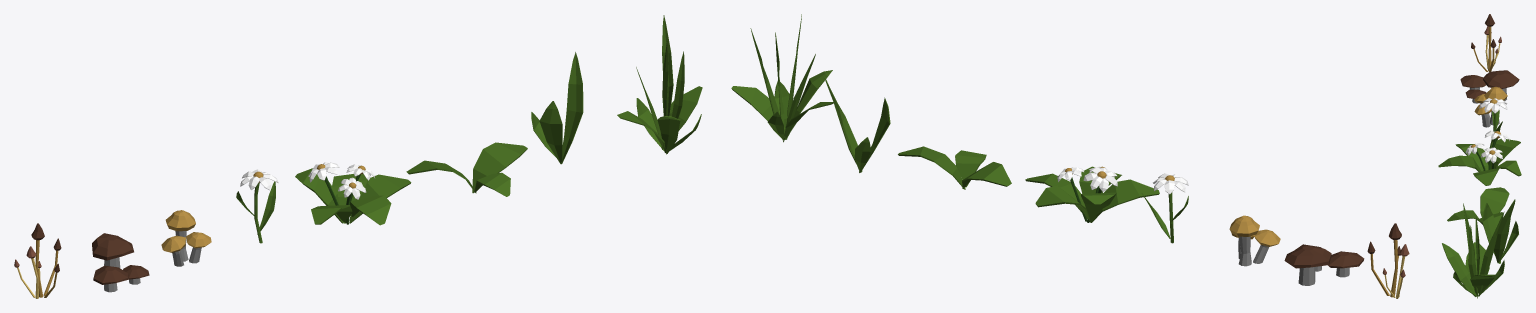
Rendered from Grass1.fbx.
The picture shows the model from 3 angles, left to right: view 1: azimuth 30°, elevation 25°; view 2: azimuth 150°, elevation 25°; view 3: azimuth 270°, elevation 25°; orthographic projection. The views are drawn at different scales.
Parts seen in each view (by area): view 1: Flower 1, Grass 3, Grass 2, Grass 1, Mushroom 2, Mushroom 3, Flower 2, Mushroom 1; view 2: Flower 1, Grass 3, Grass 1, Mushroom 2, Mushroom 3, Grass 2, Mushroom 1, Flower 2; view 3: Grass 3, Flower 1, Grass 2, Mushroom 2, Grass 1, Mushroom 1, Mushroom 3, Flower 2.
Boxes of the visible parts, x1=… form: Flower 1: x1=295, y1=162, x2=411, y2=225; Grass 3: x1=617, y1=15, x2=702, y2=154; Grass 2: x1=531, y1=52, x2=583, y2=164; Grass 1: x1=406, y1=142, x2=527, y2=196; Mushroom 2: x1=92, y1=233, x2=149, y2=292; Mushroom 3: x1=161, y1=210, x2=211, y2=266; Flower 2: x1=236, y1=169, x2=278, y2=243; Mushroom 1: x1=14, y1=223, x2=61, y2=298; Flower 1: x1=1025, y1=166, x2=1159, y2=222; Grass 3: x1=731, y1=14, x2=833, y2=142; Grass 1: x1=898, y1=146, x2=1011, y2=189; Mushroom 2: x1=1284, y1=244, x2=1364, y2=285; Mushroom 3: x1=1229, y1=215, x2=1280, y2=266; Grass 2: x1=824, y1=76, x2=890, y2=172; Mushroom 1: x1=1367, y1=223, x2=1409, y2=298; Flower 2: x1=1141, y1=173, x2=1188, y2=243; Grass 3: x1=1442, y1=203, x2=1504, y2=298; Flower 1: x1=1438, y1=130, x2=1521, y2=185; Grass 2: x1=1482, y1=199, x2=1518, y2=263; Mushroom 2: x1=1460, y1=70, x2=1519, y2=103; Grass 1: x1=1447, y1=187, x2=1509, y2=226; Mushroom 1: x1=1471, y1=14, x2=1501, y2=72; Mushroom 3: x1=1474, y1=87, x2=1507, y2=127; Flower 2: x1=1479, y1=98, x2=1507, y2=148.
Size of the model in its own units: 830 by 145 by 117.
